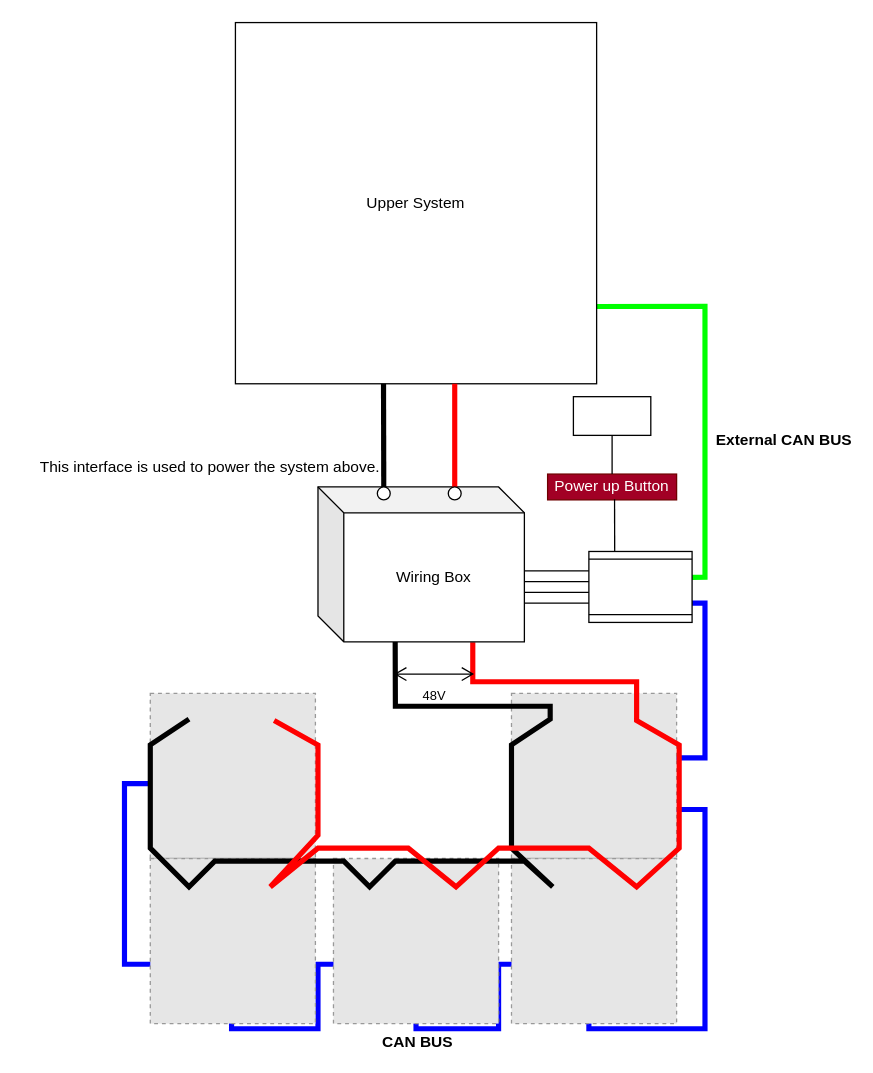
This 873x1073 diagram has some shape labels left out. Grey dashed boxes stand in for pictures. Each missing label, with the box of its shape:
Battery Management System: (588, 550, 692, 622)
Unknown Box: (572, 395, 651, 435)
